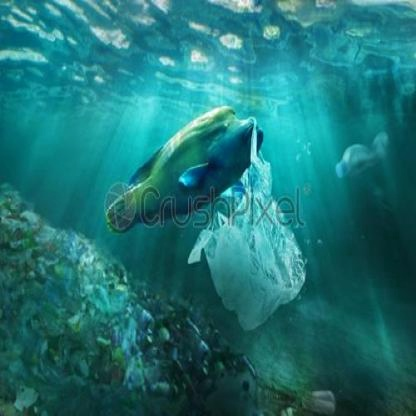pbag: (186, 116, 310, 334)
